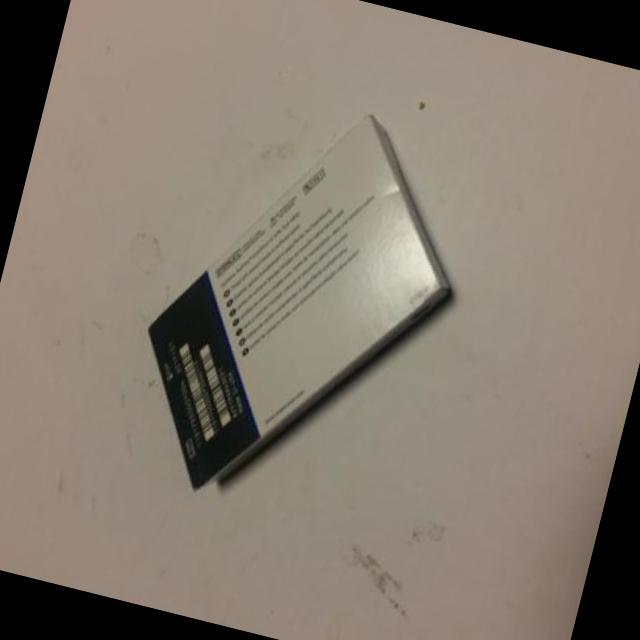paper: (137, 52, 464, 534)
